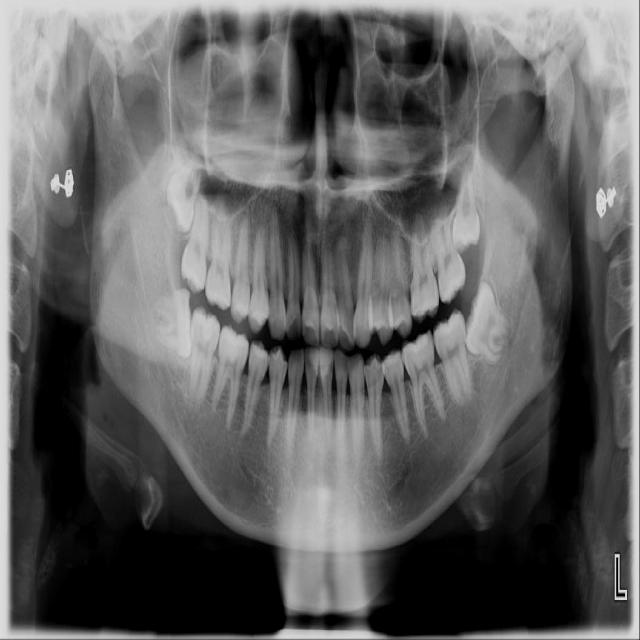impacted tooth: (463, 284, 511, 362), (143, 288, 192, 357), (166, 146, 203, 234), (453, 163, 482, 249)
